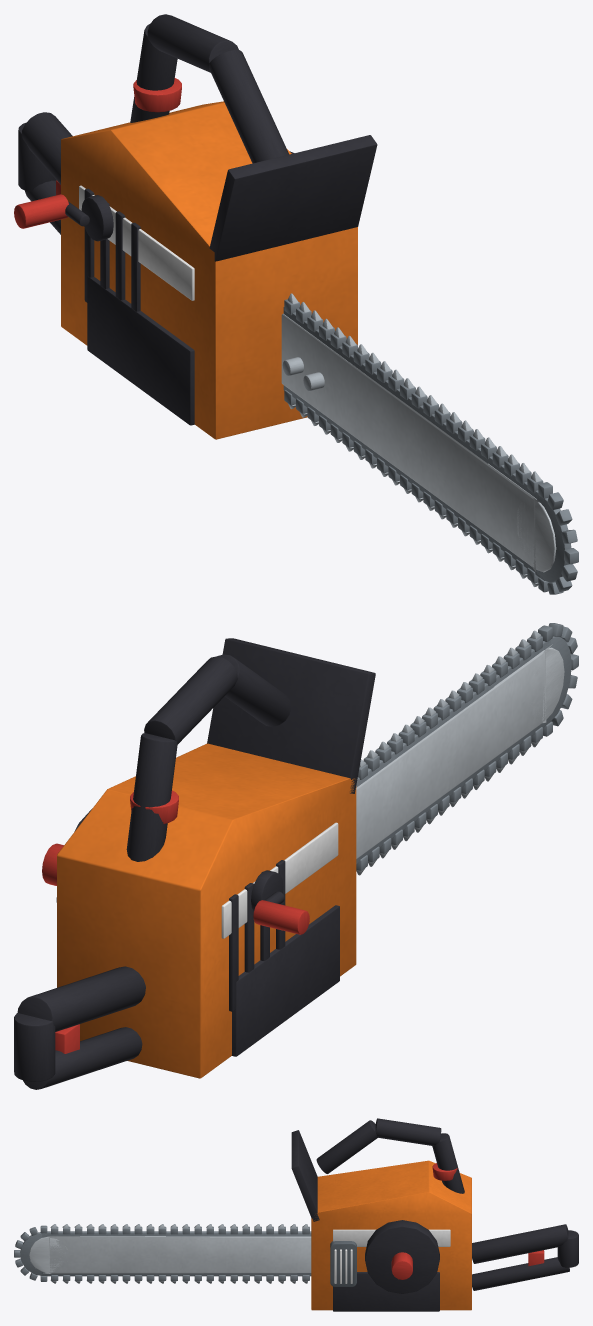
Rendered from motosierra.gltf.
The picture shows the model from 3 angles, top to bottom: view 1: azimuth 30°, elevation 25°; view 2: azimuth 150°, elevation 25°; view 3: azimuth 270°, elevation 25°; orthographic projection. The views are drawn at different scales.
Visible parts, largest first — view 1: motosierra; view 2: motosierra; view 3: motosierra.
Part boxes in pixels (box(x1,y1,x2,y2)): motosierra: box(14, 14, 578, 594); motosierra: box(14, 623, 578, 1089); motosierra: box(14, 1118, 578, 1311).
Bounding box in the file's own units: 0.32 × 0.3573 × 1.06.
8 materials, 8 textured.
